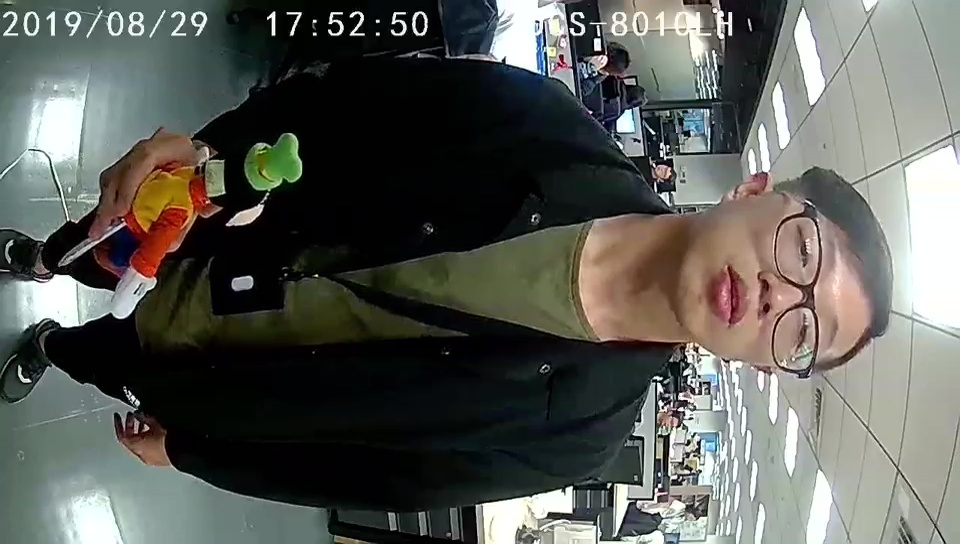goofy: (95, 133, 305, 318)
